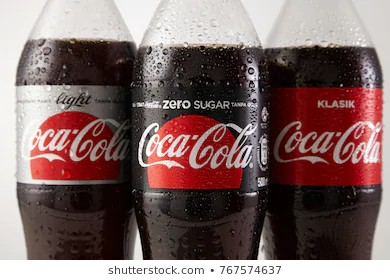coke-bottle-700ml: (269, 1, 390, 258)
coke-diet/zero-bottle-700ml: (132, 1, 268, 261), (14, 1, 140, 261)
